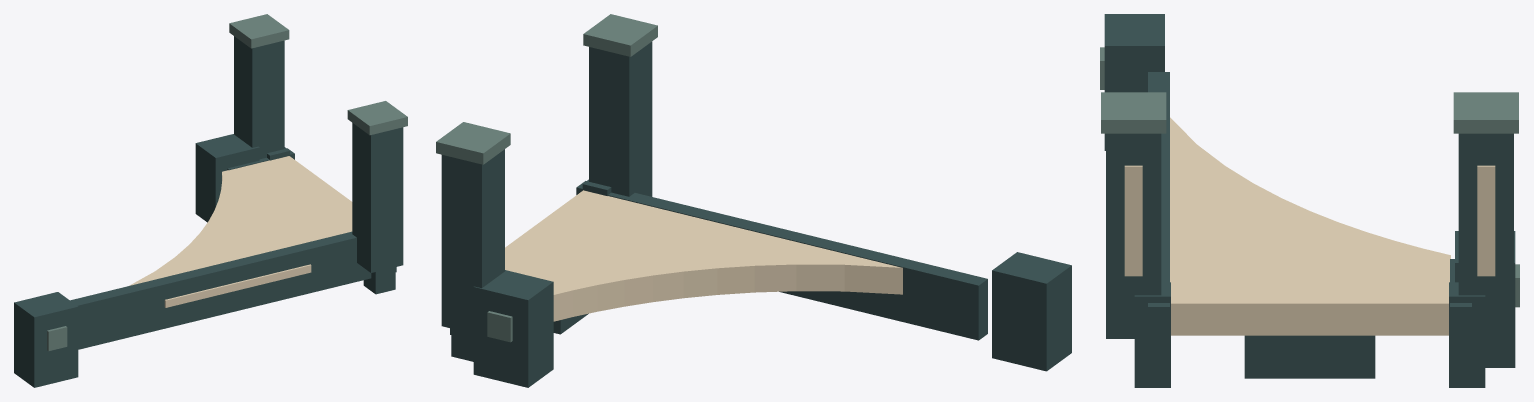
File: Pier_Angled_45_Switch_lab2.glb
The picture shows the model from 3 angles, left to right: view 1: azimuth 30°, elevation 25°; view 2: azimuth 150°, elevation 25°; view 3: azimuth 270°, elevation 25°; orthographic projection. The views are drawn at different scales.
Parts seen in each view (by area): view 1: Pier_Angled_45_Switch; view 2: Pier_Angled_45_Switch; view 3: Pier_Angled_45_Switch.
Part boxes in pixels (x1,y1,x2,y2): Pier_Angled_45_Switch: [14, 14, 407, 387]; Pier_Angled_45_Switch: [436, 14, 1071, 387]; Pier_Angled_45_Switch: [1100, 14, 1519, 387].
Size of the model in its own units: 6.42 by 2.95 by 4.17.
